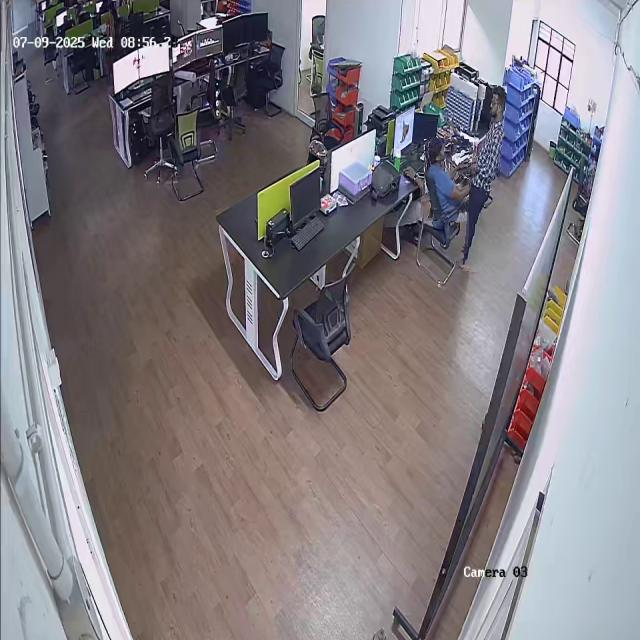person: (466, 84, 503, 273), (422, 138, 471, 222)
